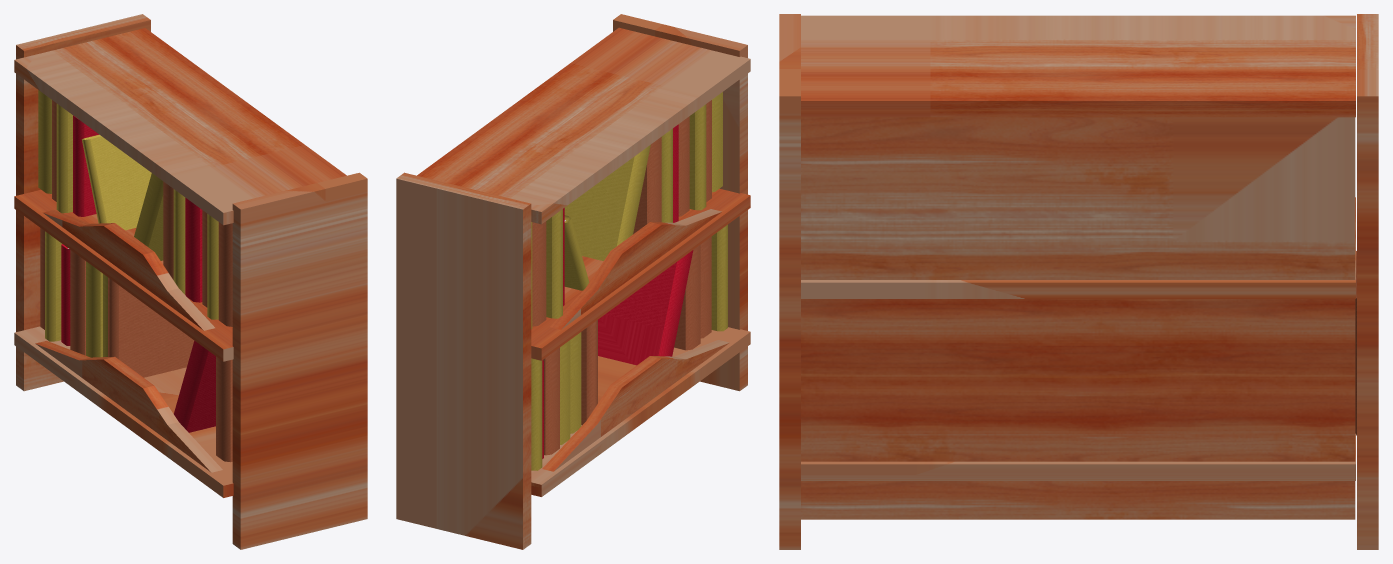
The model's file is bookshelfV3.fbx.
The picture shows the model from 3 angles, left to right: view 1: azimuth 30°, elevation 25°; view 2: azimuth 150°, elevation 25°; view 3: azimuth 270°, elevation 25°; orthographic projection. The views are drawn at different scales.
Parts seen in each view (by area): view 1: verticleSide_L, top, verticleSide_R, bottomShelf, decor_bottomShelf, pCube36, topShelf, decor_topShelf, pCube22, pCube41, pCube32, pCube20 (+15 smaller); view 2: verticleSide_R, top, verticleSide_L, pCube41, bottomShelf, topShelf, decor_bottomShelf, pCube30, decor_topShelf, pCube29, pCube38, pCube20 (+15 smaller); view 3: back, top, verticleSide_R, verticleSide_L, bottomShelf, topShelf.
Boxes of the visible parts, box(x1,y1,x2,y2) form: verticleSide_L: box(232, 172, 367, 549); top: box(14, 28, 346, 225); verticleSide_R: box(16, 14, 150, 391); bottomShelf: box(14, 326, 233, 497); decor_bottomShelf: box(35, 341, 222, 472); pCube36: box(108, 277, 194, 377); topShelf: box(14, 190, 233, 361); decor_topShelf: box(43, 210, 214, 330); pCube22: box(82, 134, 151, 230); pCube41: box(174, 340, 215, 432); pCube32: box(45, 231, 61, 341); pCube20: box(56, 103, 72, 213); verticleSide_R: box(396, 172, 531, 549); top: box(417, 27, 750, 224); verticleSide_L: box(613, 14, 747, 391); pCube41: box(598, 250, 693, 365); bottomShelf: box(531, 327, 750, 496); topShelf: box(531, 188, 750, 360); decor_bottomShelf: box(542, 340, 729, 471); pCube30: box(564, 144, 650, 260); decor_topShelf: box(550, 209, 721, 329); pCube29: box(689, 104, 706, 210); pCube38: box(674, 244, 700, 350); pCube20: box(546, 209, 562, 318); back: box(801, 117, 1355, 519); top: box(801, 15, 1355, 117); verticleSide_R: box(1357, 14, 1378, 549); verticleSide_L: box(779, 14, 800, 549); bottomShelf: box(801, 433, 1355, 480); topShelf: box(801, 197, 1355, 298).
Size of the model in its own units: 0.4884 by 1.16 by 1.39.
